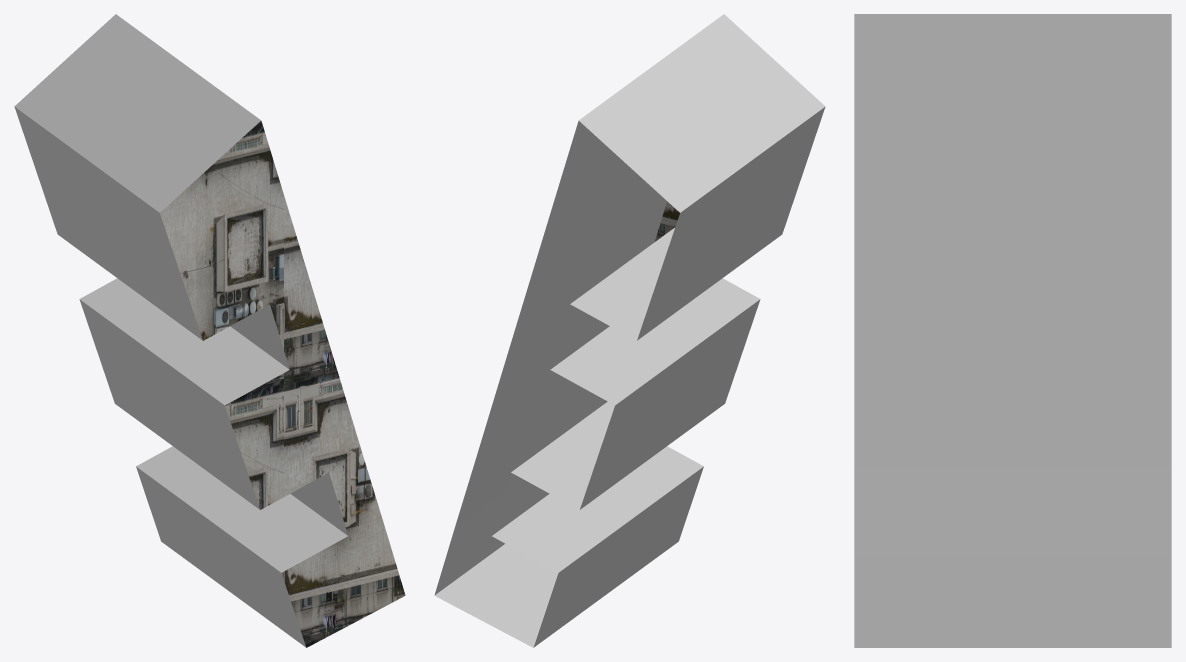
Rendered from geospecific_1086.obj.
3 views of the same model, side by side, from view 1: azimuth 30°, elevation 25°; view 2: azimuth 150°, elevation 25°; view 3: azimuth 270°, elevation 25° (orthographic). The views are drawn at different scales.
Visible parts, largest first — view 1: Building; view 2: Building; view 3: Building.
Boxes of the visible parts, box(x1,y1,x2,y2) form: Building: box(14, 14, 405, 647); Building: box(434, 14, 825, 647); Building: box(854, 14, 1171, 647).
Bounding box in the file's own units: 11.71 × 24.51 × 12.
